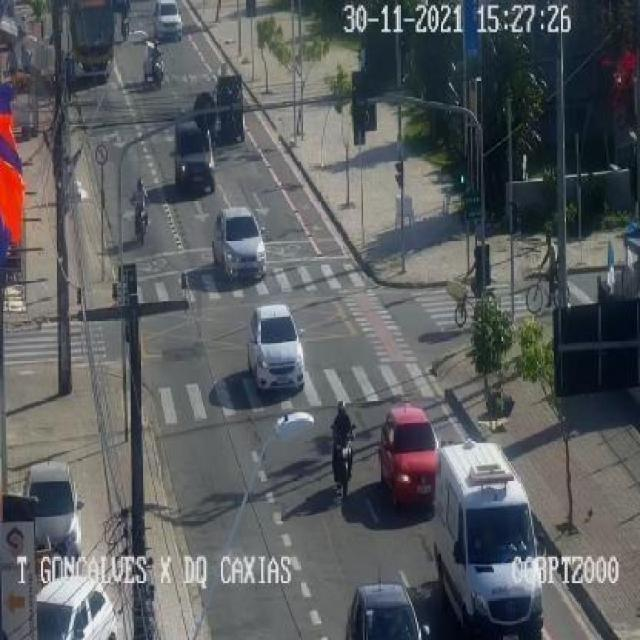Bus: (62, 0, 120, 81)
Car: (20, 456, 85, 566), (30, 578, 120, 640), (206, 204, 271, 283), (248, 305, 306, 387), (348, 582, 429, 640), (157, 0, 189, 38)
Cycle: (446, 277, 500, 324), (526, 263, 572, 312), (328, 429, 357, 496), (137, 57, 168, 87)
Van: (428, 437, 550, 634), (172, 109, 216, 190)
